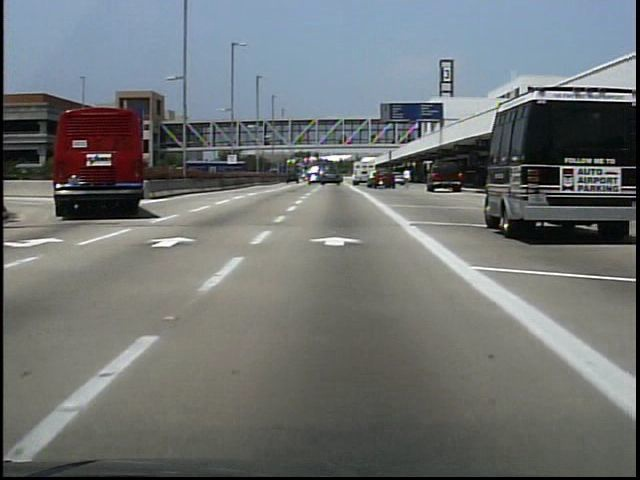person: (399, 169, 413, 191)
